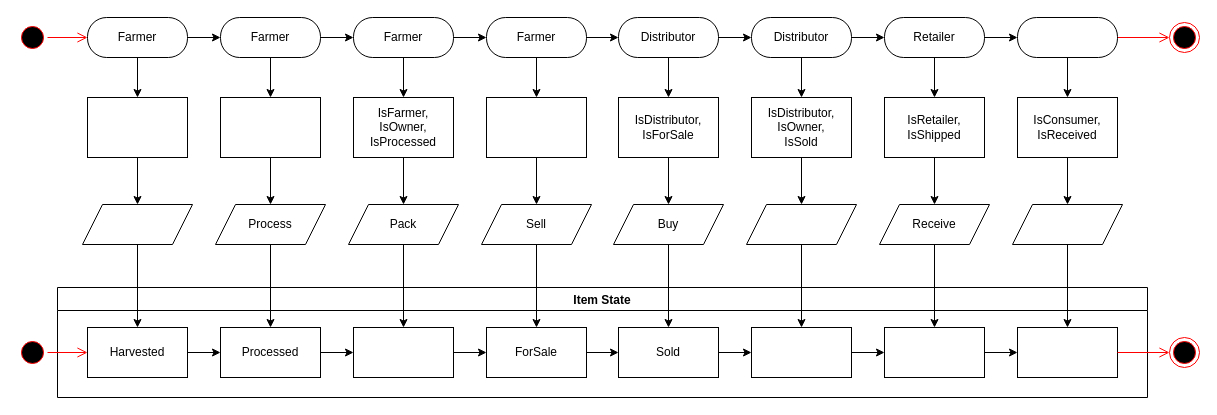
Image size: 1217x415. Some labels were removed from this diagram. The centre of each missing label's shape, as x and y in pixels:
"Consumer" belongs at (1067,37).
"Harvest" belongs at (137,224).
"IsFarmer" belongs at (137,127).
"IsFarmer, IsOwner, IsHarvested" belongs at (270,127).
"IsFarmer, IsOwner, IsPacked" belongs at (536,127).
"Packed" belongs at (403,352).
"Purchase" belongs at (1067,224).
"Purchased" belongs at (1067,352).
"Received" belongs at (934,352).
"Ship" belongs at (801,224).
"Shipped" belongs at (801,352).
